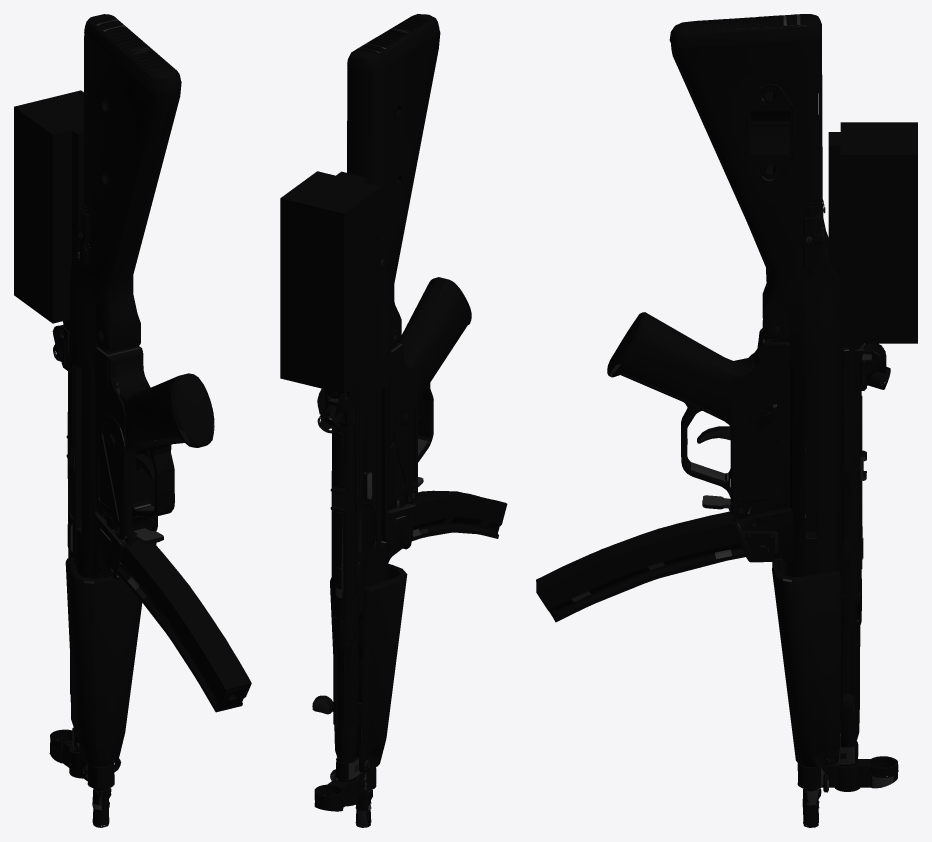
Rendered from MP5A3__Handguard_MP5_Rail__Laser_Pistol.fbx.
3 renders of one model, left to right at view 1: azimuth 30°, elevation 25°; view 2: azimuth 150°, elevation 25°; view 3: azimuth 270°, elevation 25°, orthographic. The views are drawn at different scales.
Parts seen in each view (by area): view 1: asset_MP5A3.001; view 2: asset_MP5A3.001; view 3: asset_MP5A3.001.
Part boxes in pixels (<box>): asset_MP5A3.001: <box>14,14,251,827</box>; asset_MP5A3.001: <box>280,14,507,827</box>; asset_MP5A3.001: <box>536,14,917,827</box>.
Size of the model in its own units: 0.0324 by 0.36 by 0.1542.
